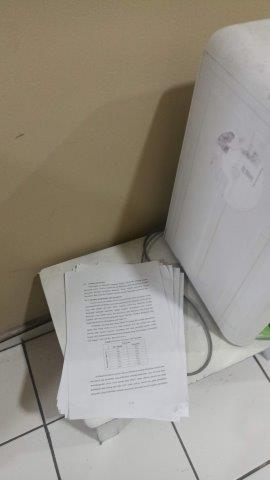kertas: (56, 263, 188, 425)
